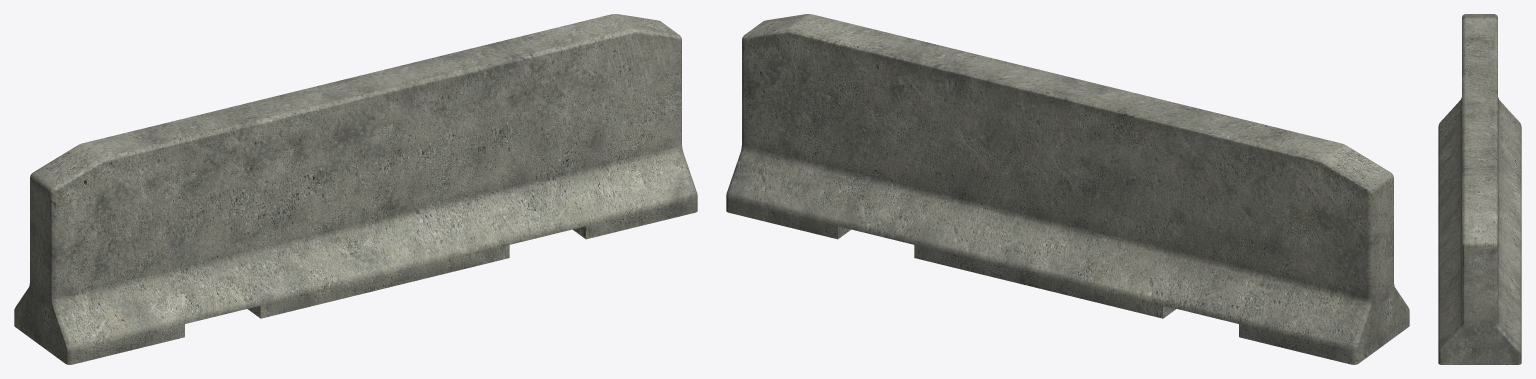
The model's file is brickblock.glb.
The picture shows the model from 3 angles, left to right: view 1: azimuth 30°, elevation 25°; view 2: azimuth 150°, elevation 25°; view 3: azimuth 270°, elevation 25°; orthographic projection. The views are drawn at different scales.
Visible parts, largest first — view 1: BarrierConcrete; view 2: BarrierConcrete; view 3: BarrierConcrete.
Part boxes in pixels (<box>): BarrierConcrete: <box>14,14,697,364</box>; BarrierConcrete: <box>726,14,1409,364</box>; BarrierConcrete: <box>1438,14,1521,364</box>.
Bounding box in the file's own units: 3.75 × 1.03 × 0.5736.
1 material, 1 textured.
